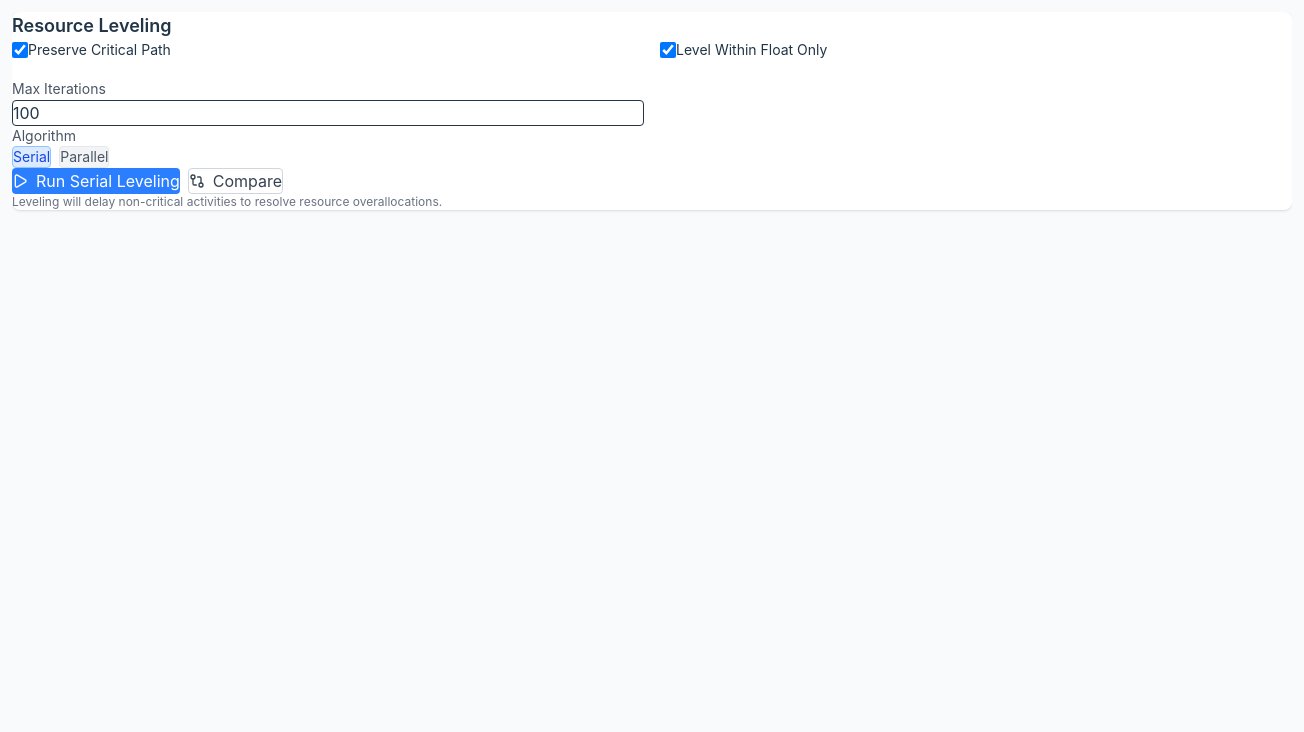
Test case: LevelingPanel › shows results after running leveling
The width and height of the screenshot is (1304, 732).
Click the button "Run Serial Leveling": (96, 181) [12,168,180,194]
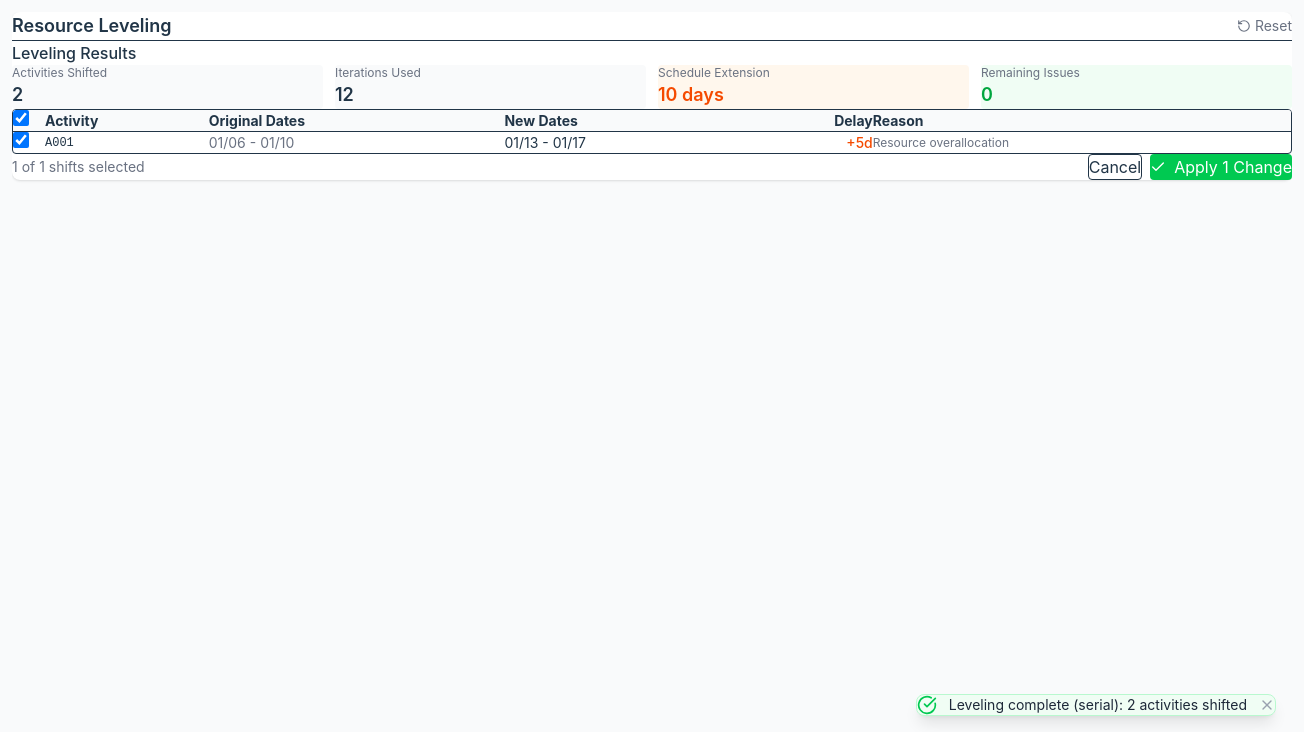
expect the heading "Leveling Results" is shown: met, box [12,43,136,63]
expect the text "Activities Shifted" is shown: met, box [12,65,107,80]
